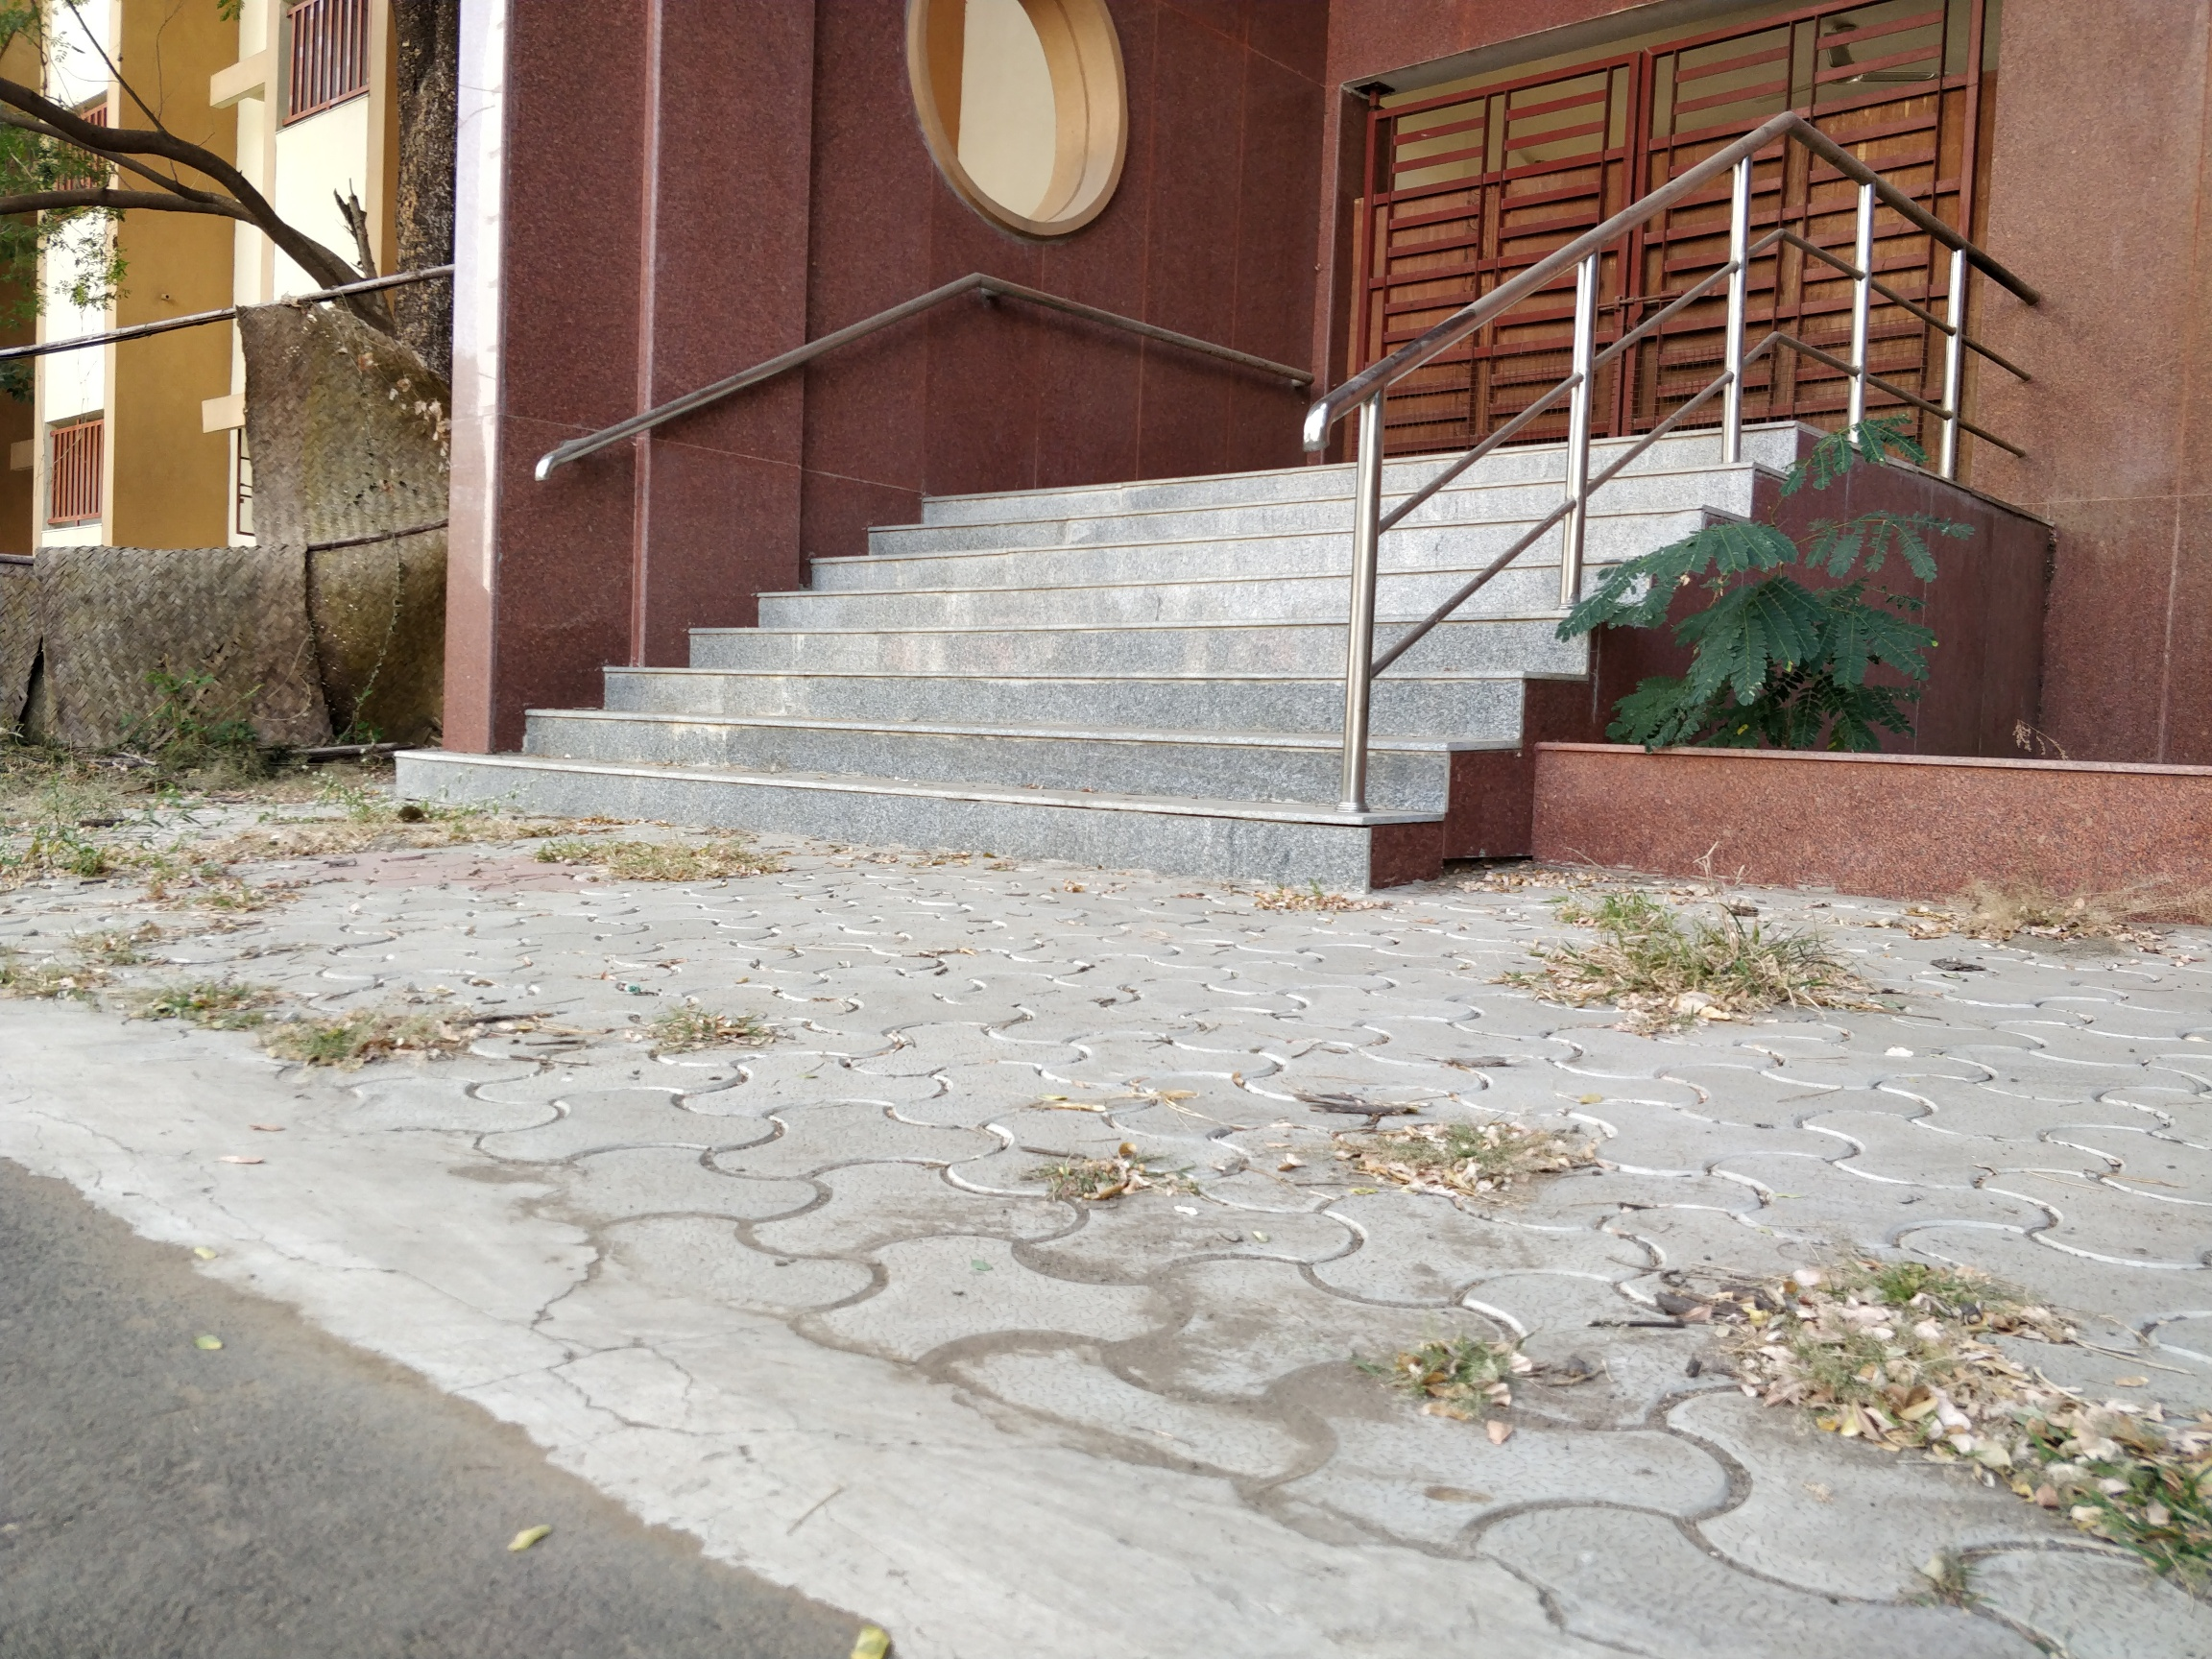stairs_up: (416, 418, 1794, 859)
